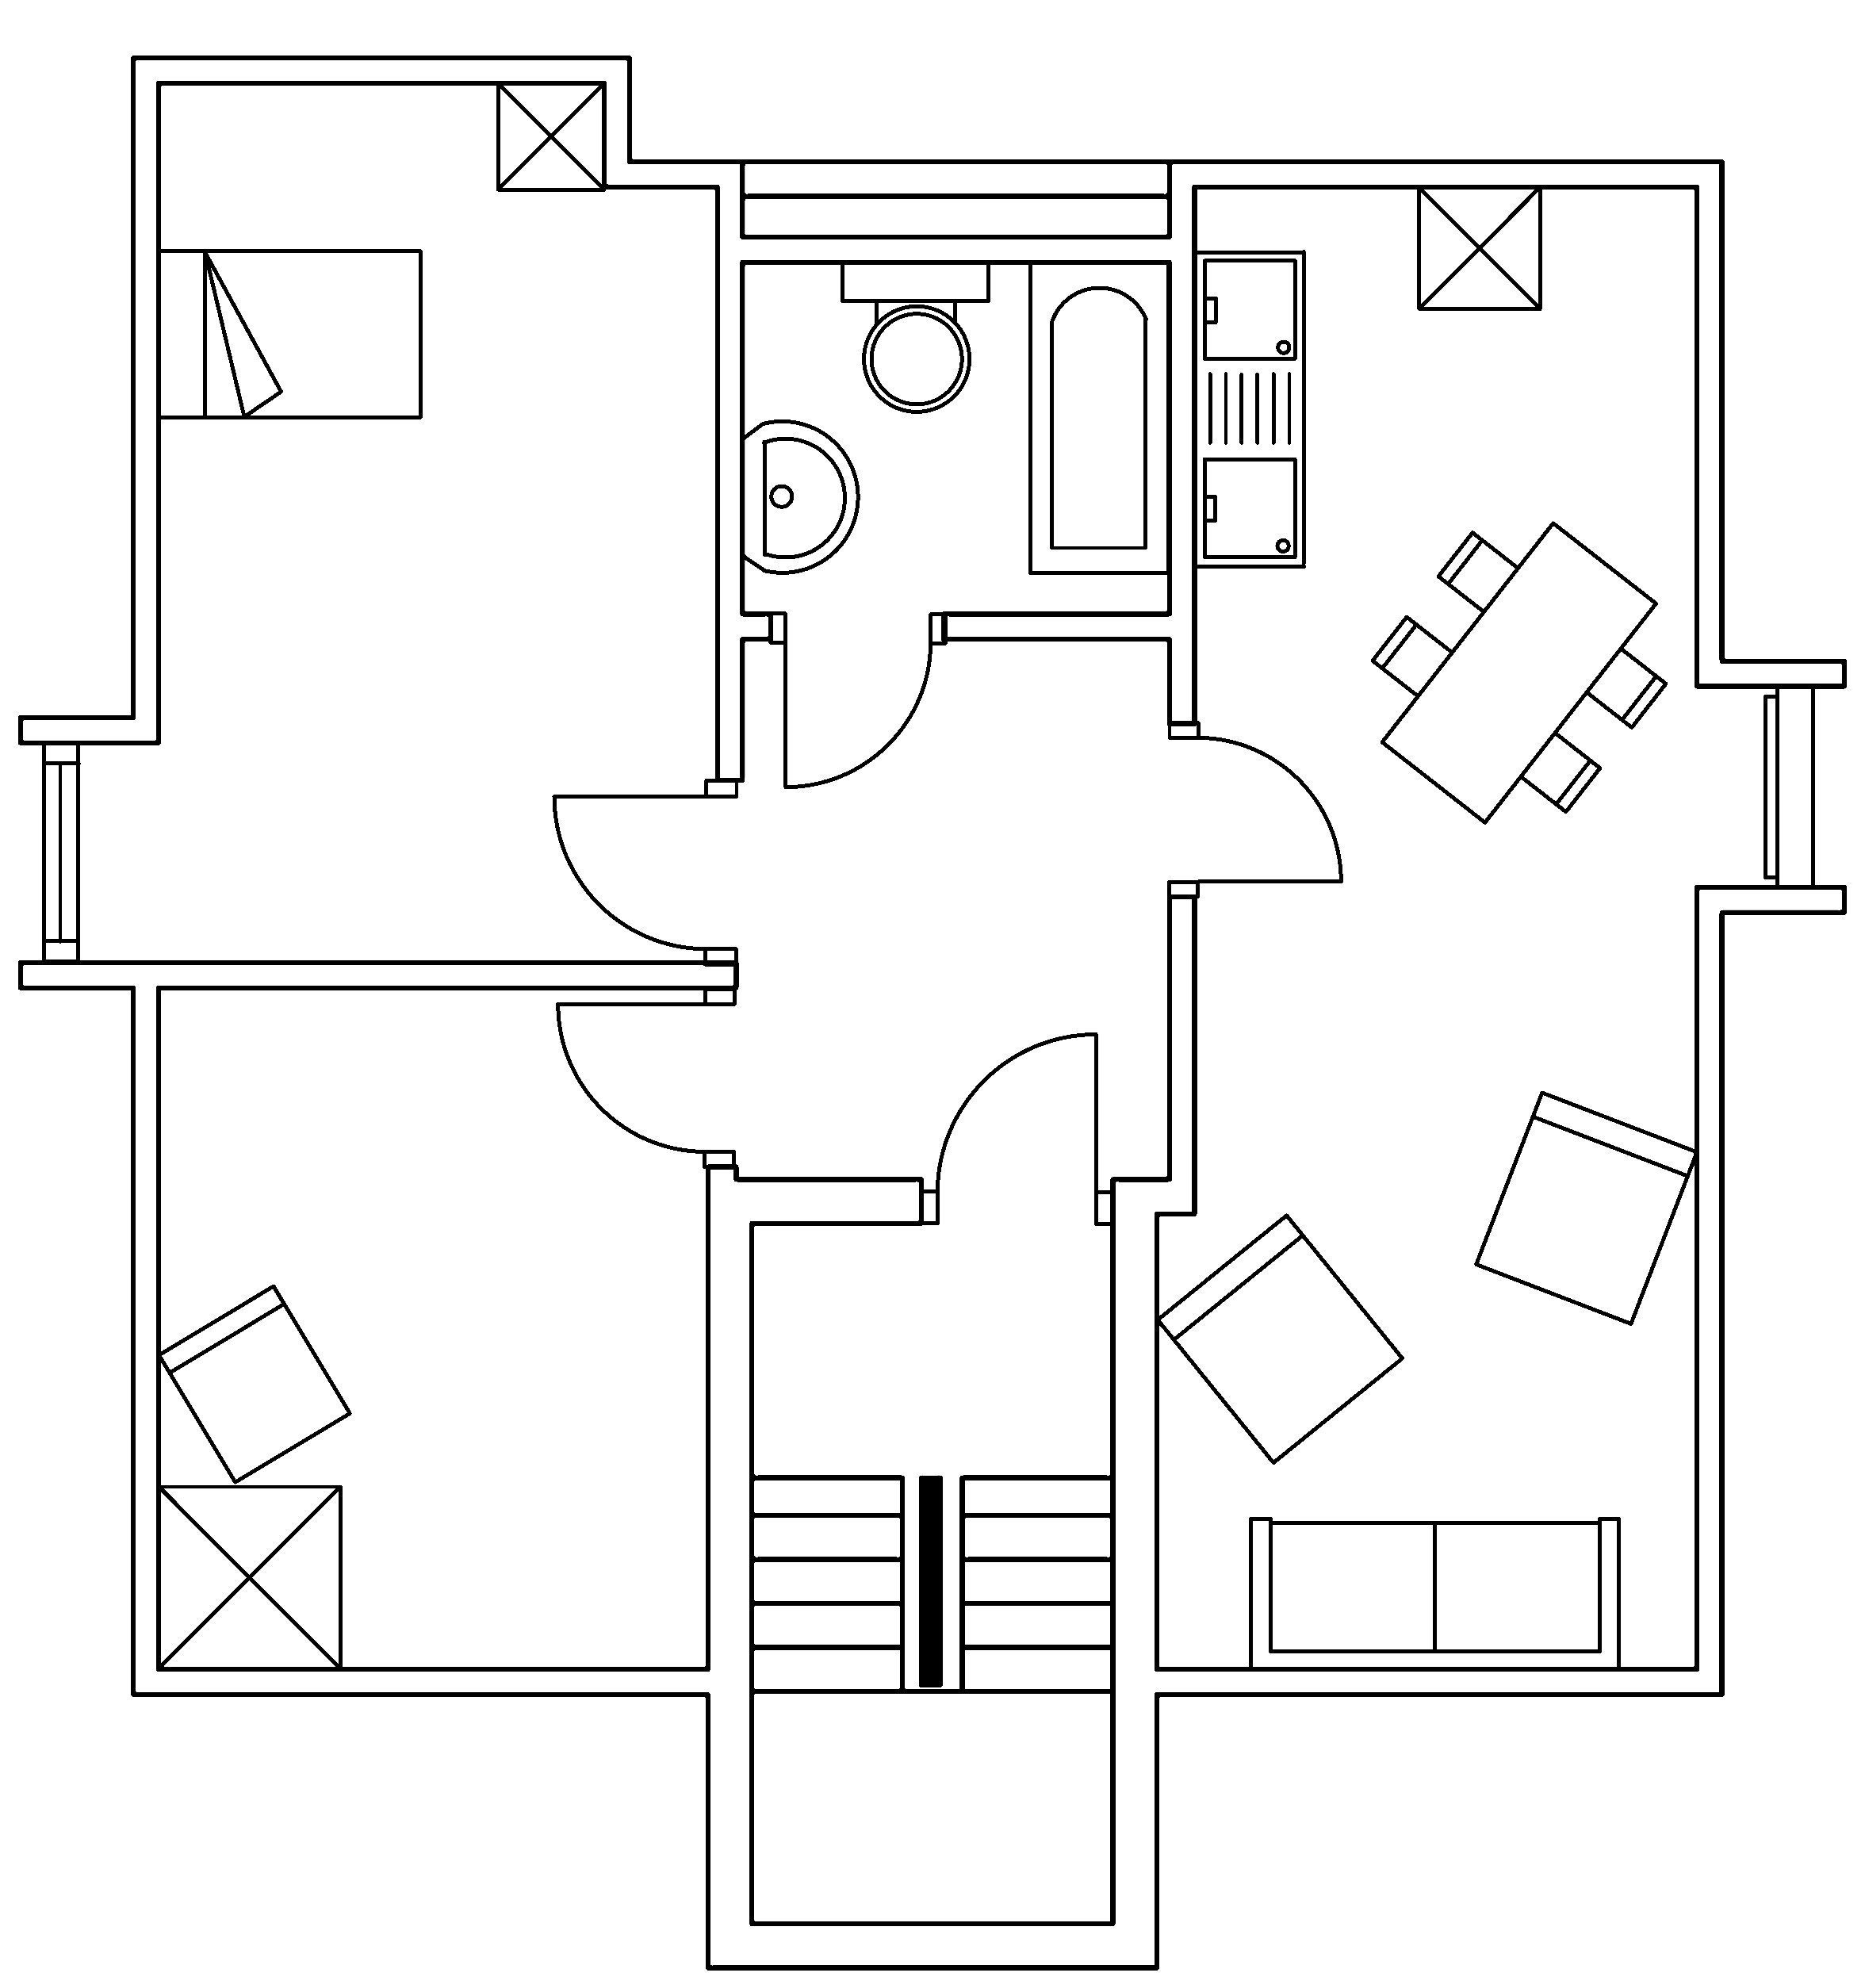bed: (154, 247, 422, 421)
coffee_table: (154, 1481, 342, 1671), (1416, 182, 1542, 310), (494, 79, 606, 191)
dining_table: (1369, 519, 1669, 824)
large_sink: (840, 258, 990, 412)
large_sofa: (1248, 1515, 1621, 1672)
small_sink: (740, 419, 859, 573)
small_sofa: (1153, 1211, 1406, 1464), (1472, 1089, 1698, 1325), (156, 1282, 352, 1485)
tub: (1027, 258, 1171, 575)
twin_sink: (1192, 247, 1308, 570)
